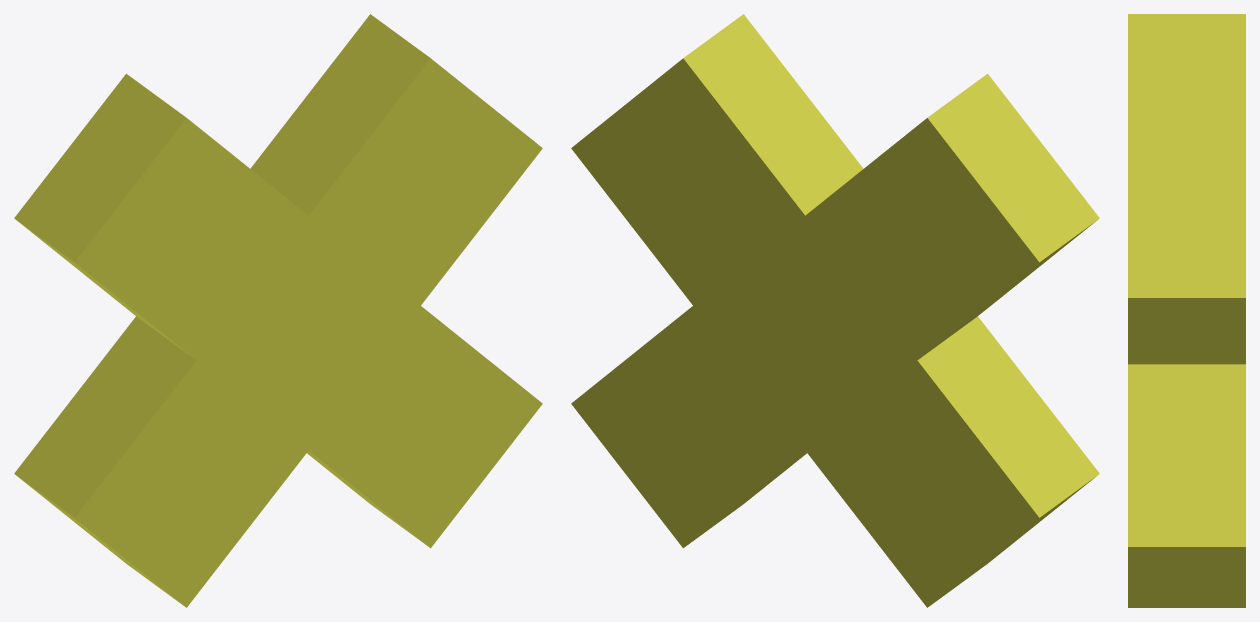
Rendered from 03 cross.FBX.
3 renders of one model, left to right at view 1: azimuth 30°, elevation 25°; view 2: azimuth 150°, elevation 25°; view 3: azimuth 270°, elevation 25°, orthographic. The views are drawn at different scales.
Parts seen in each view (by area): view 1: SM_Icon_Cross_01; view 2: SM_Icon_Cross_01; view 3: SM_Icon_Cross_01.
Part boxes in pixels (x1,y1,x2,y2): SM_Icon_Cross_01: [14, 14, 542, 607]; SM_Icon_Cross_01: [571, 14, 1099, 607]; SM_Icon_Cross_01: [1128, 14, 1245, 607].
Size of the model in its own units: 38.4 by 38.4 by 8.58.
